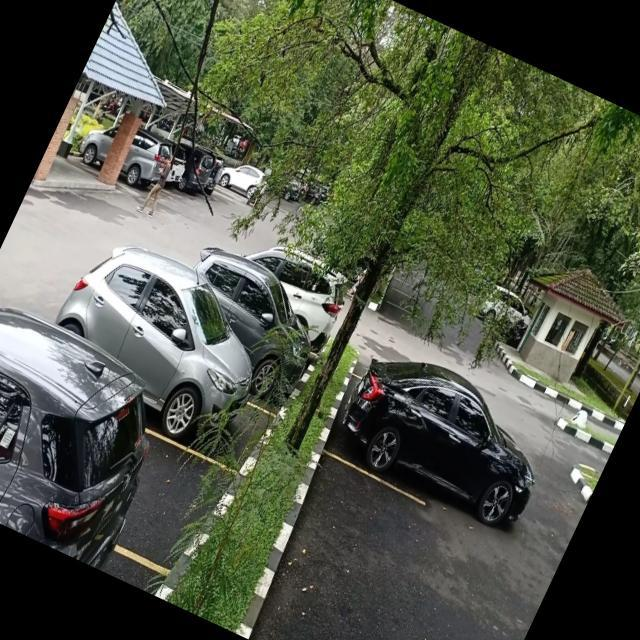empty: (102, 432, 235, 585)
occupied: (317, 356, 552, 544), (112, 316, 286, 478)
